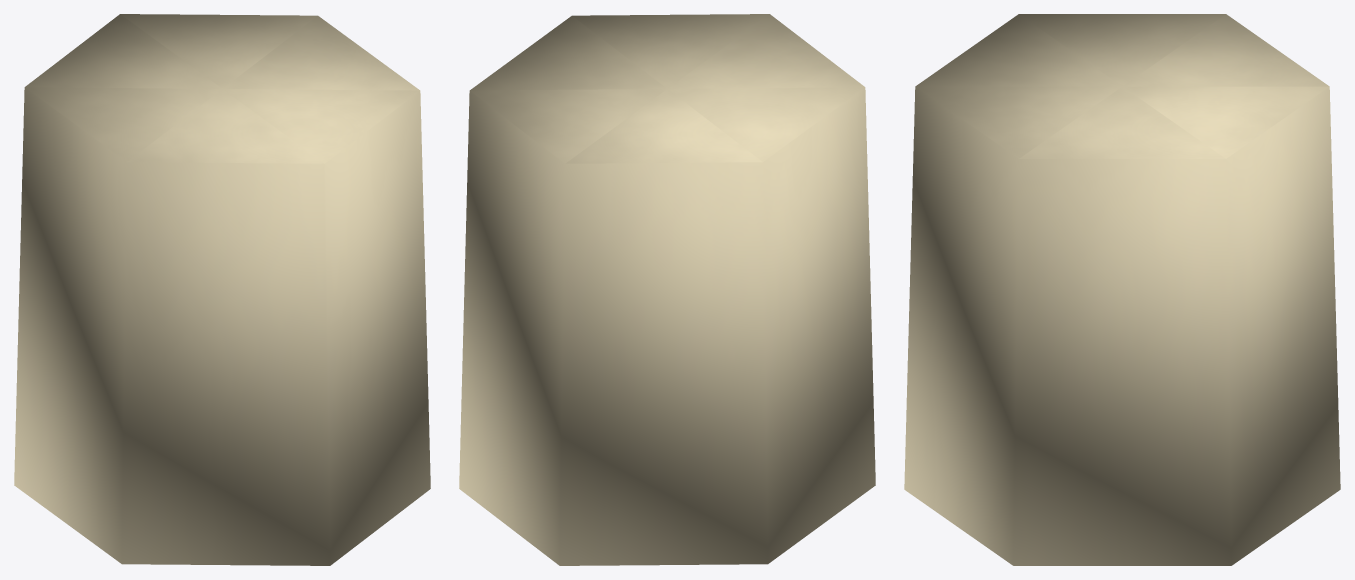
Rendered from Candle_1_LOD1.gltf.
3 views of the same model, side by side, from view 1: azimuth 30°, elevation 25°; view 2: azimuth 150°, elevation 25°; view 3: azimuth 270°, elevation 25° (orthographic).
Visible parts, largest first — view 1: Candle_1_LOD1; view 2: Candle_1_LOD1; view 3: Candle_1_LOD1.
Boxes of the visible parts, x1,y1,x2,y2 form: Candle_1_LOD1: (14, 14, 430, 565); Candle_1_LOD1: (459, 14, 875, 565); Candle_1_LOD1: (904, 14, 1340, 565).
Size of the model in its own units: 0.0911 by 0.1122 by 0.11.
Materials: 1 (1 with a texture image).
